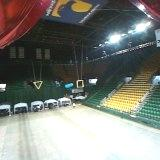Yellow_Square_GShape: (76, 80, 84, 88)
Yellow_Triangle_Gshape: (33, 80, 43, 90)
